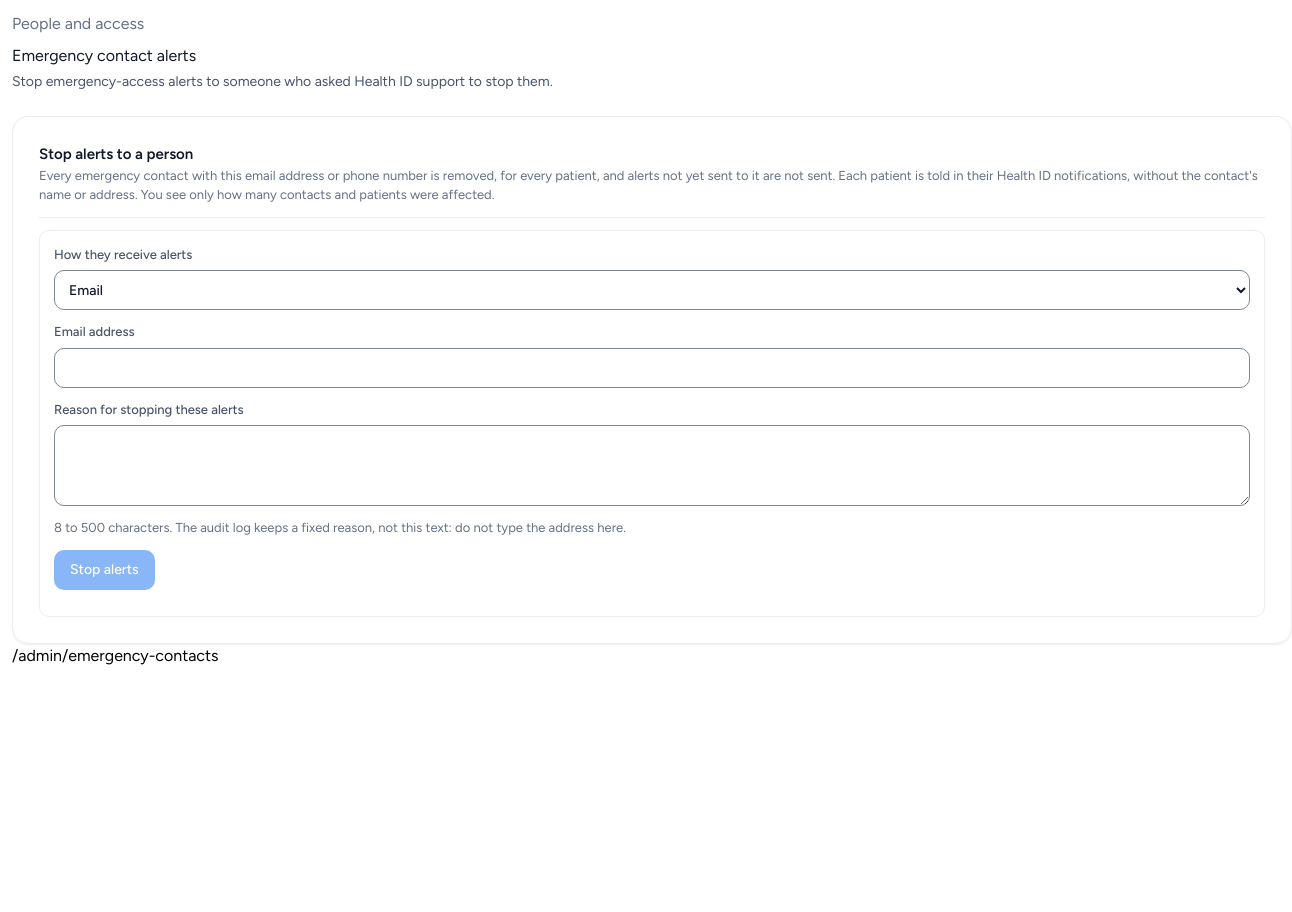
it: stopping alerts to a person › takes a phone number for SMS, and says a refused address at its field
Select "SMS (phone)" in the dropdown labelled "How they receive alerts". click: (652, 290)
box: [54,270,1250,310]
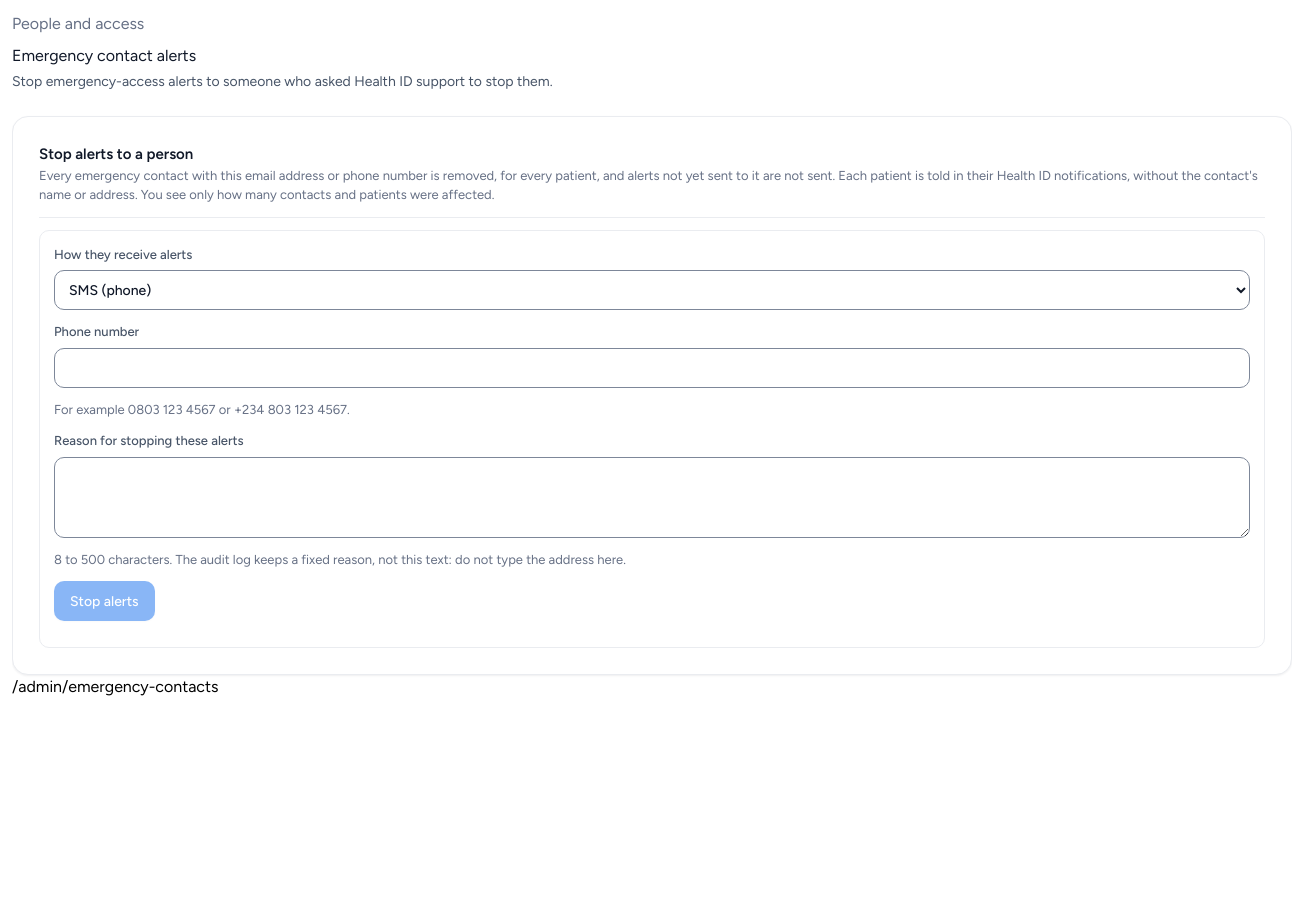
Type "0803 12" into the field labelled "Phone number". click: (652, 368)
box: [54,348,1250,388]
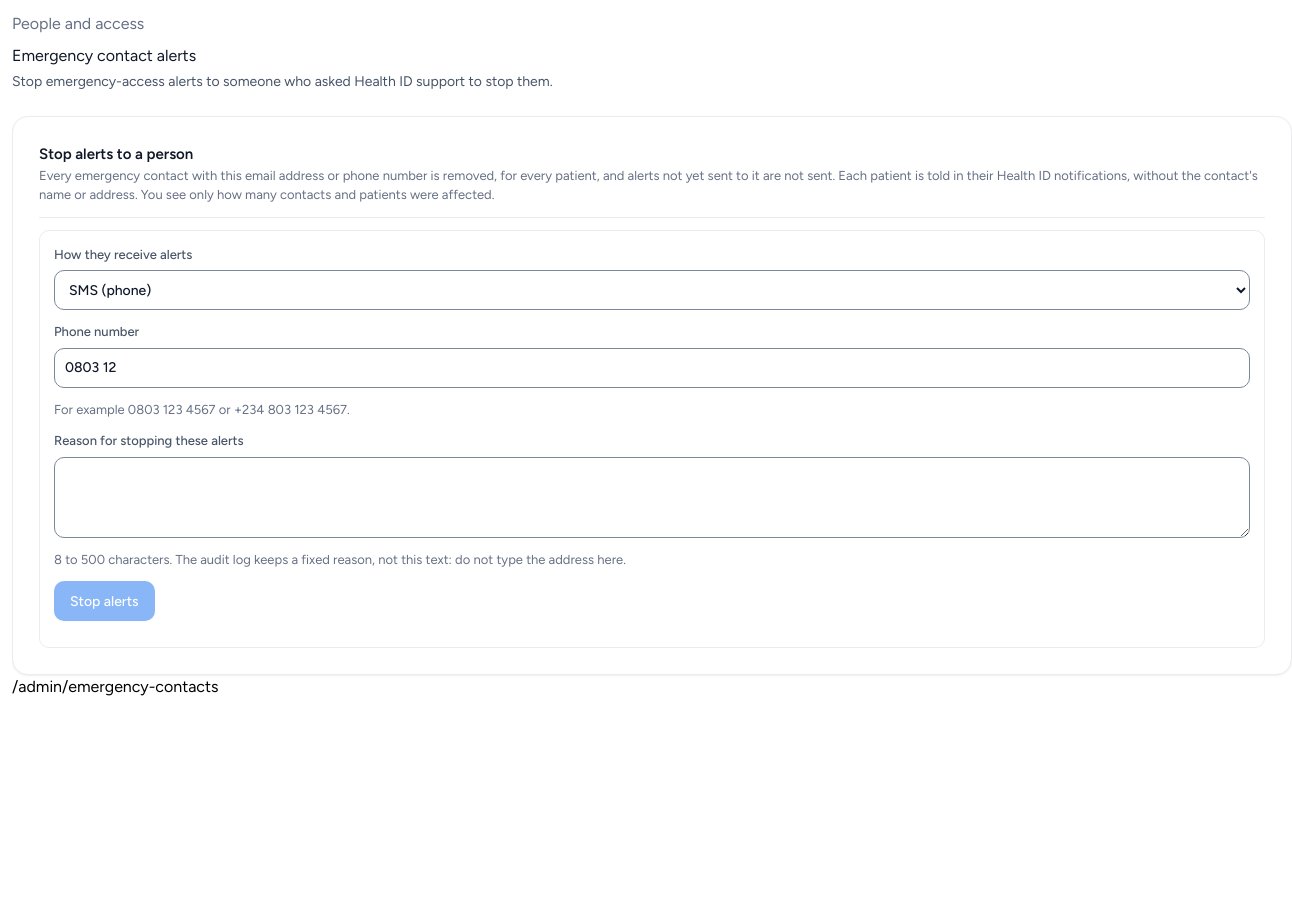
Type "Recipient called support" into the text box labelled "Reason for stopping these alerts". click: (652, 497)
box: [54,456,1250,538]
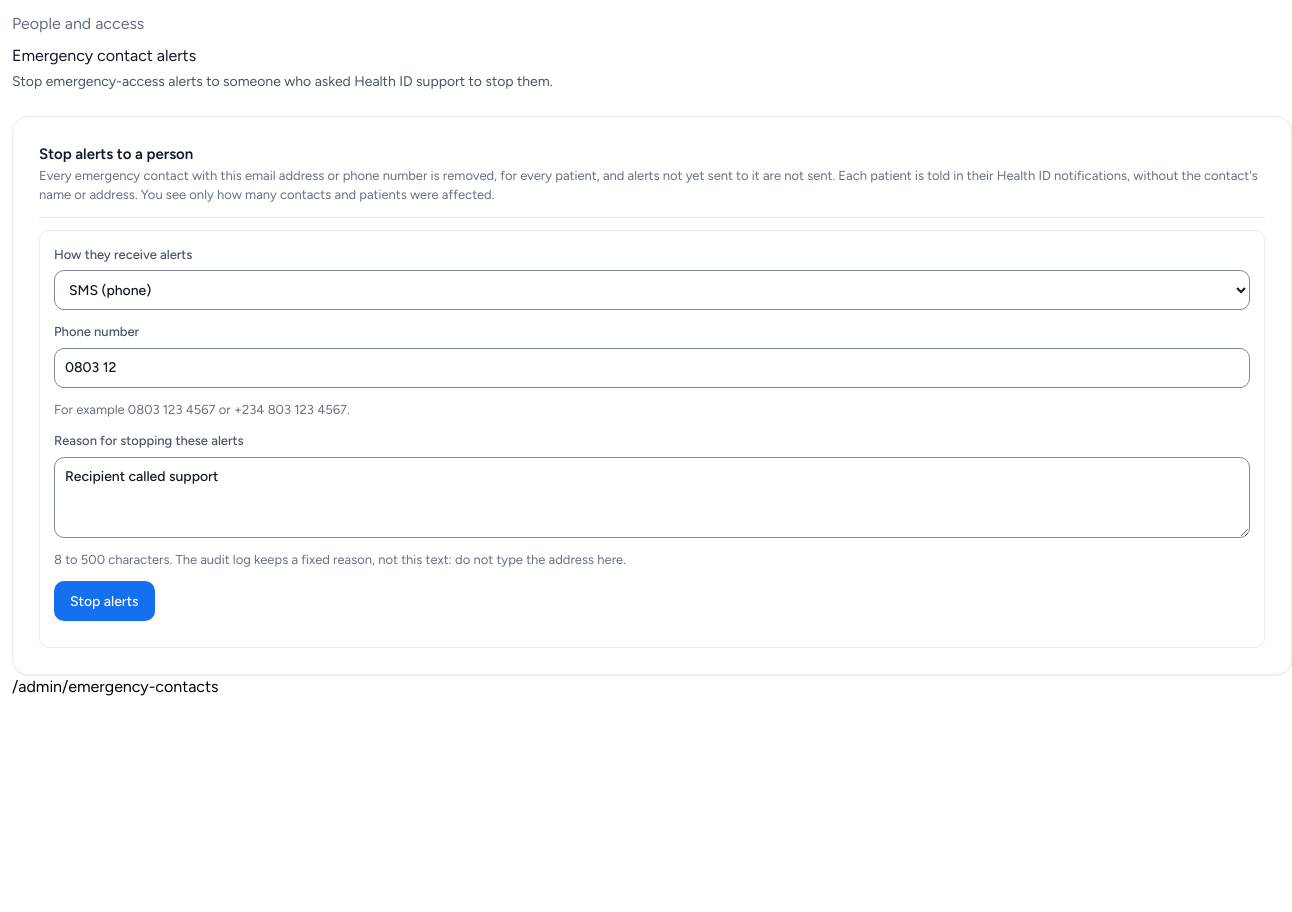
Click the button "Stop alerts". click: (104, 601)
box: [54,581,155,621]
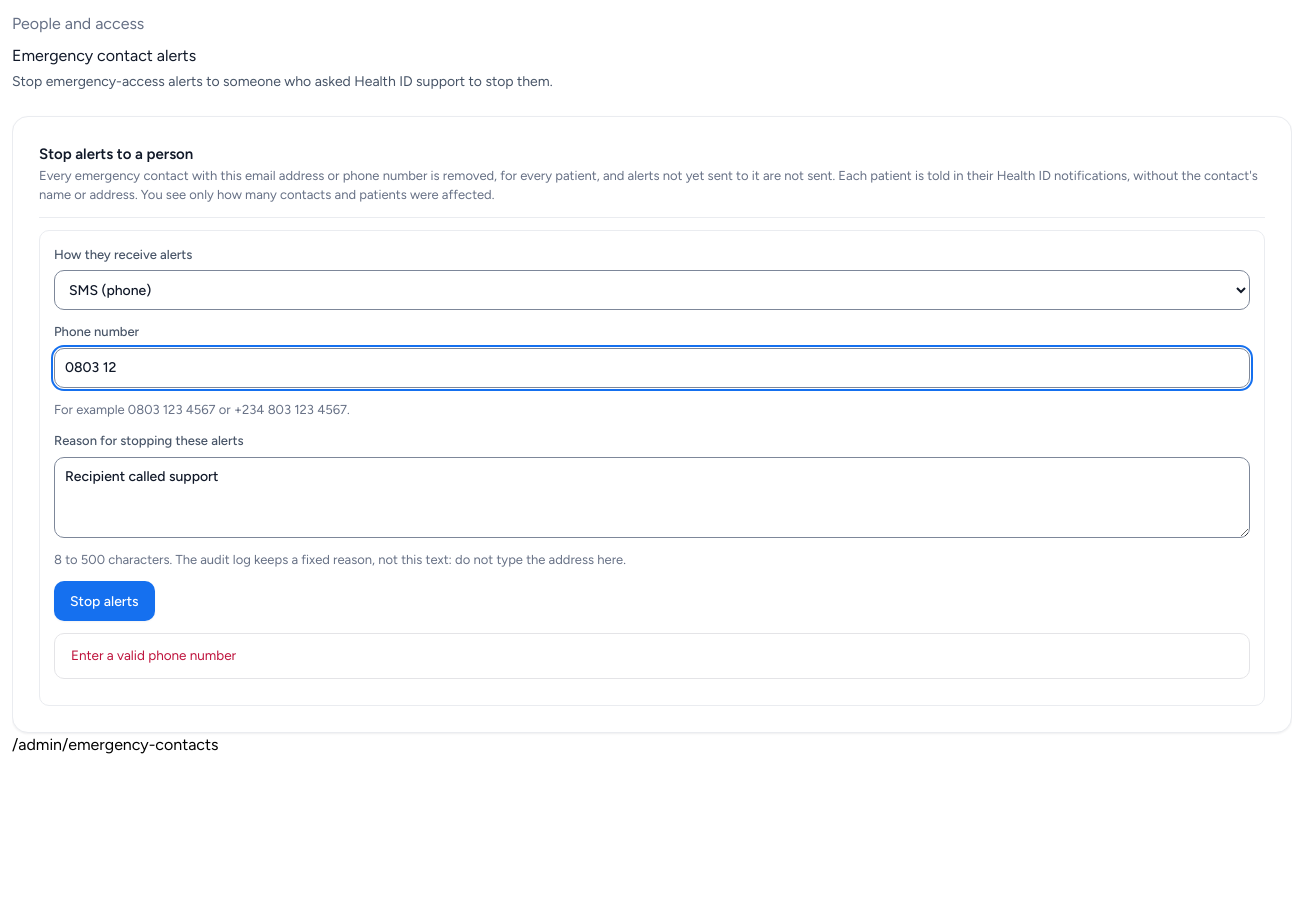
Expected: the text with id "admin-opt-out-hint" reads "For example 0803 123 4567 or +234 803 123 4567.", [54,402,350,416]
Expected: the message reads "Enter a valid phone number", [71,647,236,663]
